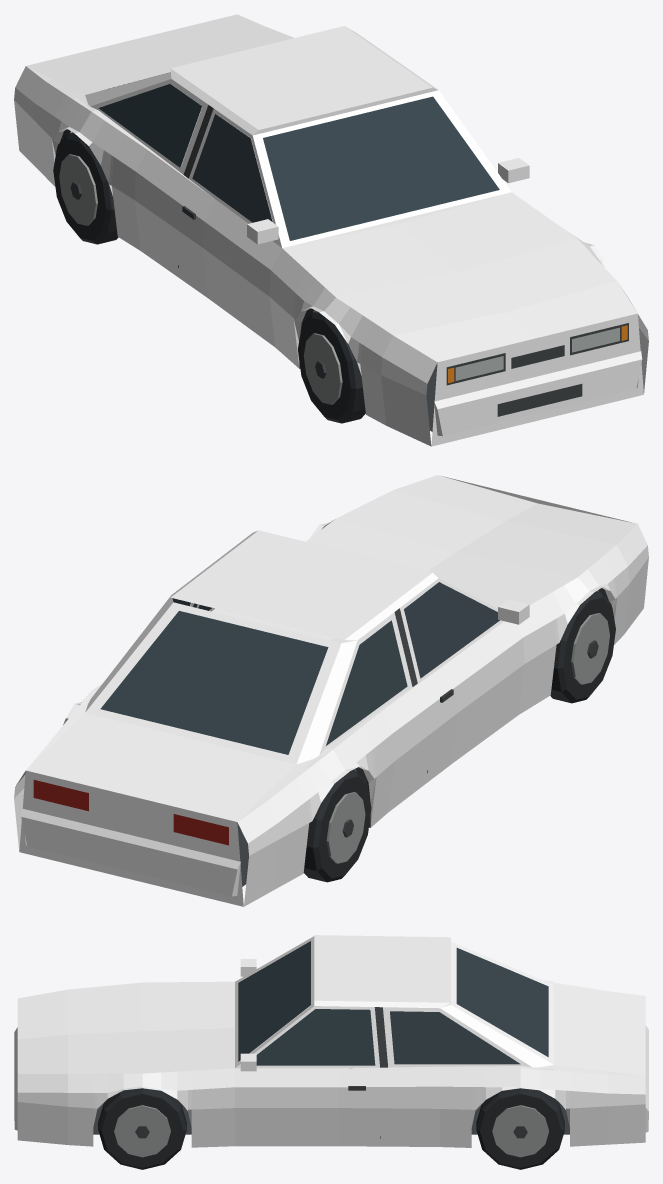
Rendered from calderwood_moorland.glb.
3 renders of one model, top to bottom at view 1: azimuth 30°, elevation 25°; view 2: azimuth 150°, elevation 25°; view 3: azimuth 270°, elevation 25°, orthographic. The views are drawn at different scales.
Visible parts, largest first — view 1: calderwood_moorland; view 2: calderwood_moorland; view 3: calderwood_moorland.
Boxes of the visible parts, x1,y1,x2,y2 form: calderwood_moorland: [14, 14, 648, 446]; calderwood_moorland: [14, 475, 648, 906]; calderwood_moorland: [14, 935, 648, 1169].
Bounding box in the file's own units: 1.82 × 1.25 × 4.7.
Materials: 8 (1 with a texture image).
